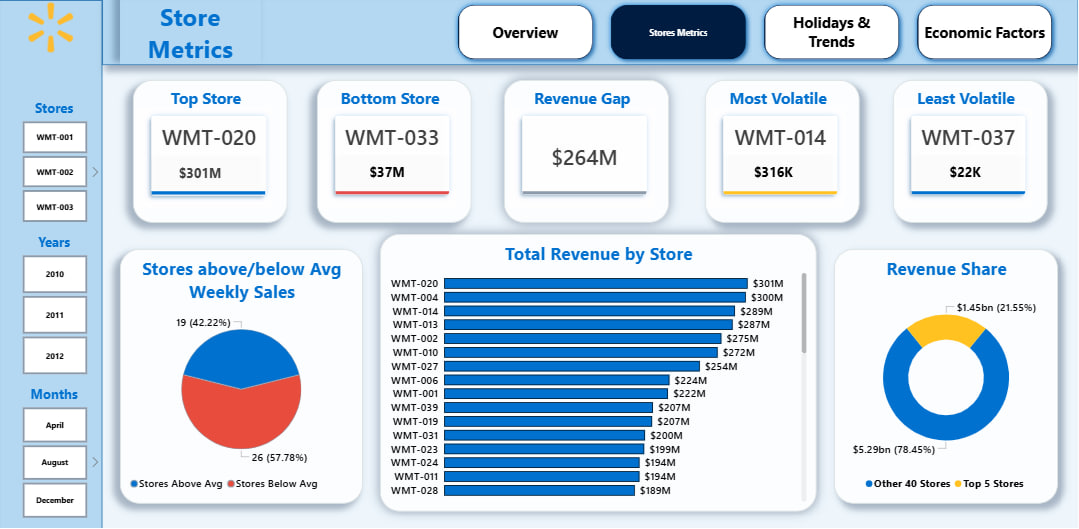

This screenshot's page, from the dashboard's own definition file:
{"tool":"powerbi","page":{"name":"Stores Metrics","canvas":[1650,810],"ordinal":1},"visuals":[{"type":"shape","box":[0,1,157.9,809],"z":0},{"type":"cardVisual","title":"Top Store","fields":{"Data":["Walmart_Sales.Top Store Name"]},"box":[204,124.2,236,218.2],"z":1000},{"type":"shape","title":"Store Metrics","box":[157.9,0,1492.1,101.1],"z":2000},{"type":"slicer","title":"Years","fields":{"Values":["Walmart_Sales.Year"]},"box":[0,357.7,158.5,217.5],"z":3000},{"type":"slicer","title":"Months","fields":{"Values":["Calendar.Month_Name"]},"box":[0,589.9,158.5,204.6],"z":4000},{"type":"slicer","title":"Stores","fields":{"Values":["Walmart_Sales.Store_ID"]},"box":[0,153,158.5,189.9],"z":5000},{"type":"pageNavigator","box":[691.9,0,926.1,101.1],"z":6000},{"type":"image","box":[0,0,157.9,86.9],"z":7000},{"type":"cardVisual","title":"Bottom Store","fields":{"Data":["Walmart_Sales.Bottom Store Name"]},"box":[486.1,124.2,236,218.2],"z":8000},{"type":"cardVisual","title":"Revenue Gap","fields":{"Data":["Walmart_Sales.Revenue Gap"]},"box":[771.8,124.2,251.9,218.2],"z":9000},{"type":"cardVisual","title":"Most Volatile","fields":{"Data":["Walmart_Sales.Most Volatile Store"]},"box":[1078.7,124.2,236,218.2],"z":10000},{"type":"cardVisual","title":"Least Volatile","fields":{"Data":["Walmart_Sales.Least Volatile Store"]},"box":[1366.1,124.2,236,218.2],"z":11000},{"type":"pieChart","title":"Stores above/below Avg Weekly Sales","fields":{"Y":["Walmart_Sales.Stores Above Network Avg","Walmart_Sales.Stores Below Network Avg"]},"box":[184.5,381.5,370.8,388.5],"z":12000},{"type":"donutChart","title":"Revenue Share","fields":{"Category":["Walmart_Sales.Store_Performance_Group"],"Y":["Walmart_Sales.Total Revenue"]},"box":[1275.6,381.5,342.4,388.5],"z":13000},{"type":"barChart","title":"Total Revenue by Store","fields":{"Y":["Walmart_Sales.Total Revenue"],"Category":["Walmart_Sales.Store_ID"]},"box":[581.9,358.4,667.1,424],"z":14000},{"type":"textbox","title":"Store Metrics","box":[184.5,1.8,214.7,99.4],"z":15000}]}

Visuals, with their boxes in screenshot pixels (x1, y1, x2, y2), scaled from the page's 1650x810 canvas onto the 1079x529 screenshot:
shape: x1=0 y1=1 x2=103 y2=528
"Top Store" cardVisual: x1=133 y1=81 x2=288 y2=224
"Store Metrics" shape: x1=103 y1=0 x2=1078 y2=66
"Years" slicer: x1=0 y1=234 x2=104 y2=376
"Months" slicer: x1=0 y1=385 x2=104 y2=519
"Stores" slicer: x1=0 y1=100 x2=104 y2=224
pageNavigator: x1=452 y1=0 x2=1058 y2=66
image: x1=0 y1=0 x2=103 y2=57
"Bottom Store" cardVisual: x1=318 y1=81 x2=472 y2=224
"Revenue Gap" cardVisual: x1=505 y1=81 x2=669 y2=224
"Most Volatile" cardVisual: x1=705 y1=81 x2=860 y2=224
"Least Volatile" cardVisual: x1=893 y1=81 x2=1048 y2=224
"Stores above/below Avg Weekly Sales" pieChart: x1=121 y1=249 x2=363 y2=503
"Revenue Share" donutChart: x1=834 y1=249 x2=1058 y2=503
"Total Revenue by Store" barChart: x1=381 y1=234 x2=817 y2=511
"Store Metrics" textbox: x1=121 y1=1 x2=261 y2=66
